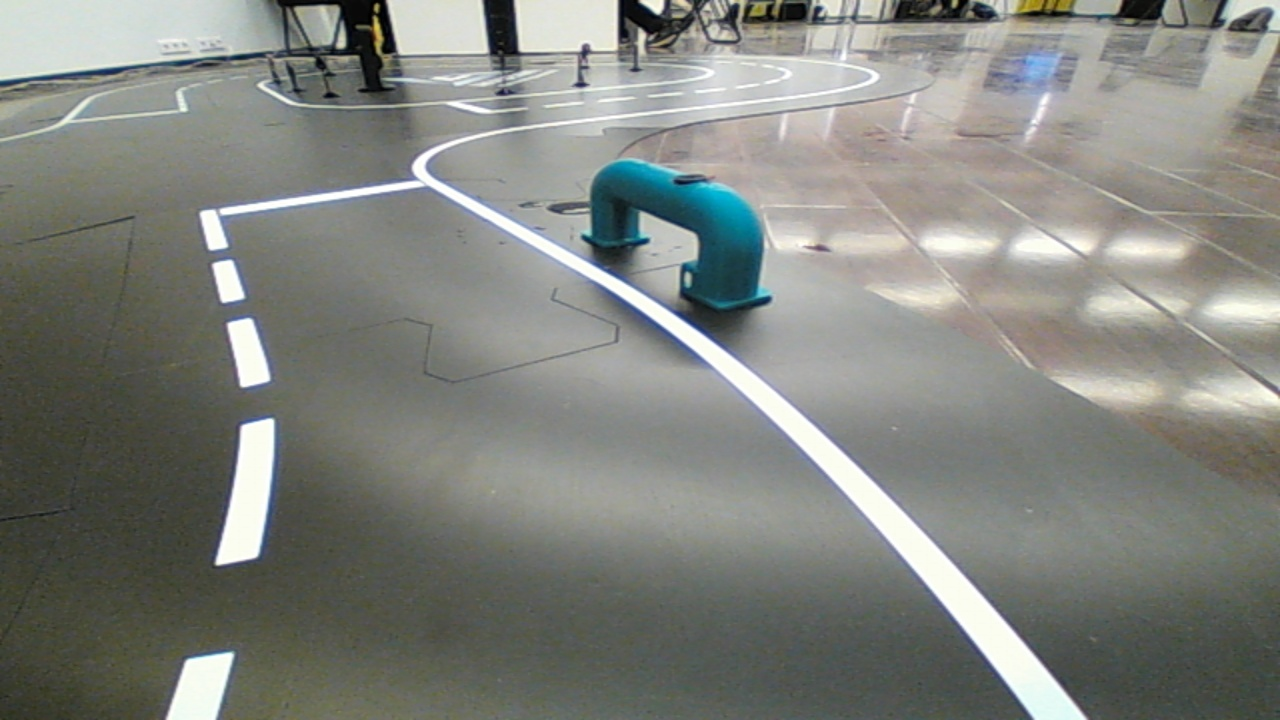Pedestrian crossing: (576, 140, 791, 325)
